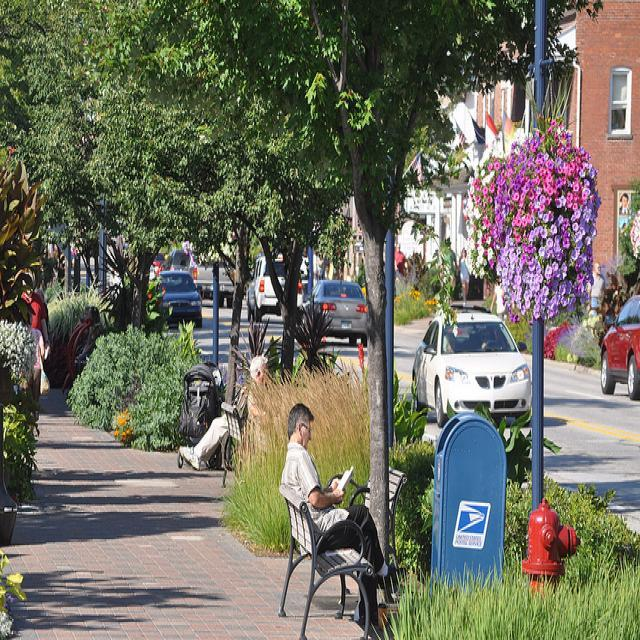fire_hydrant: (521, 491, 585, 598)
